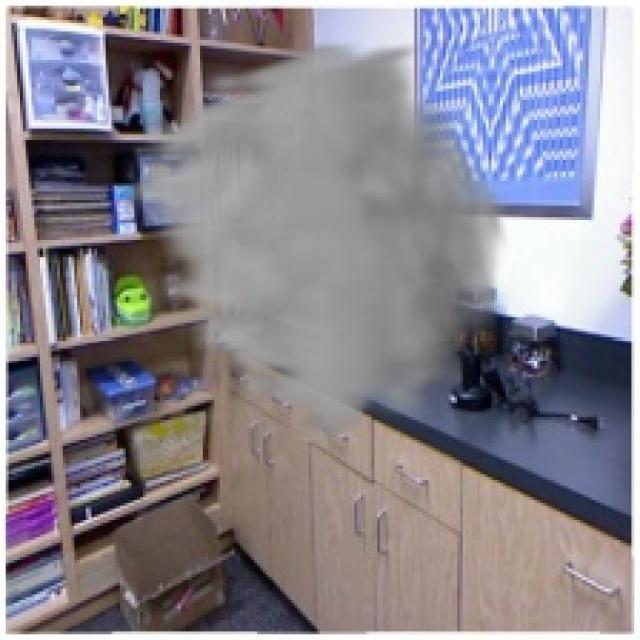smoke: (109, 37, 514, 443)
